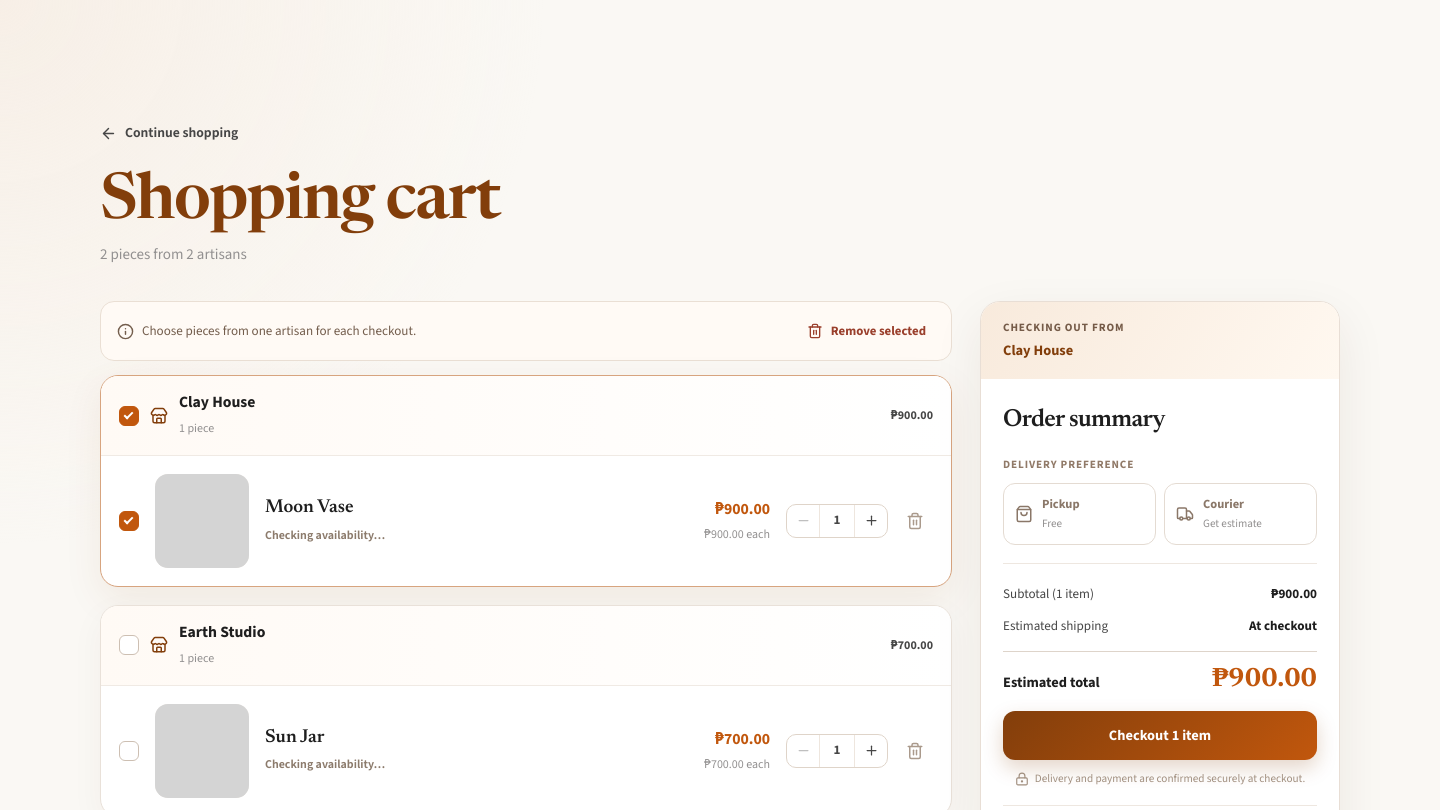
CartPage guest shop flow › switches selection exclusively between artisan shops
Expected: the link "Moon Vase" is shown, [265,498,354,517]
Expected: the checkbox named "Select Moon Vase" is checked, [119,511,139,531]
Step 1. Click the checkbox named "Select Sun Jar" → coordinates (129, 751), box [119,741,139,761]
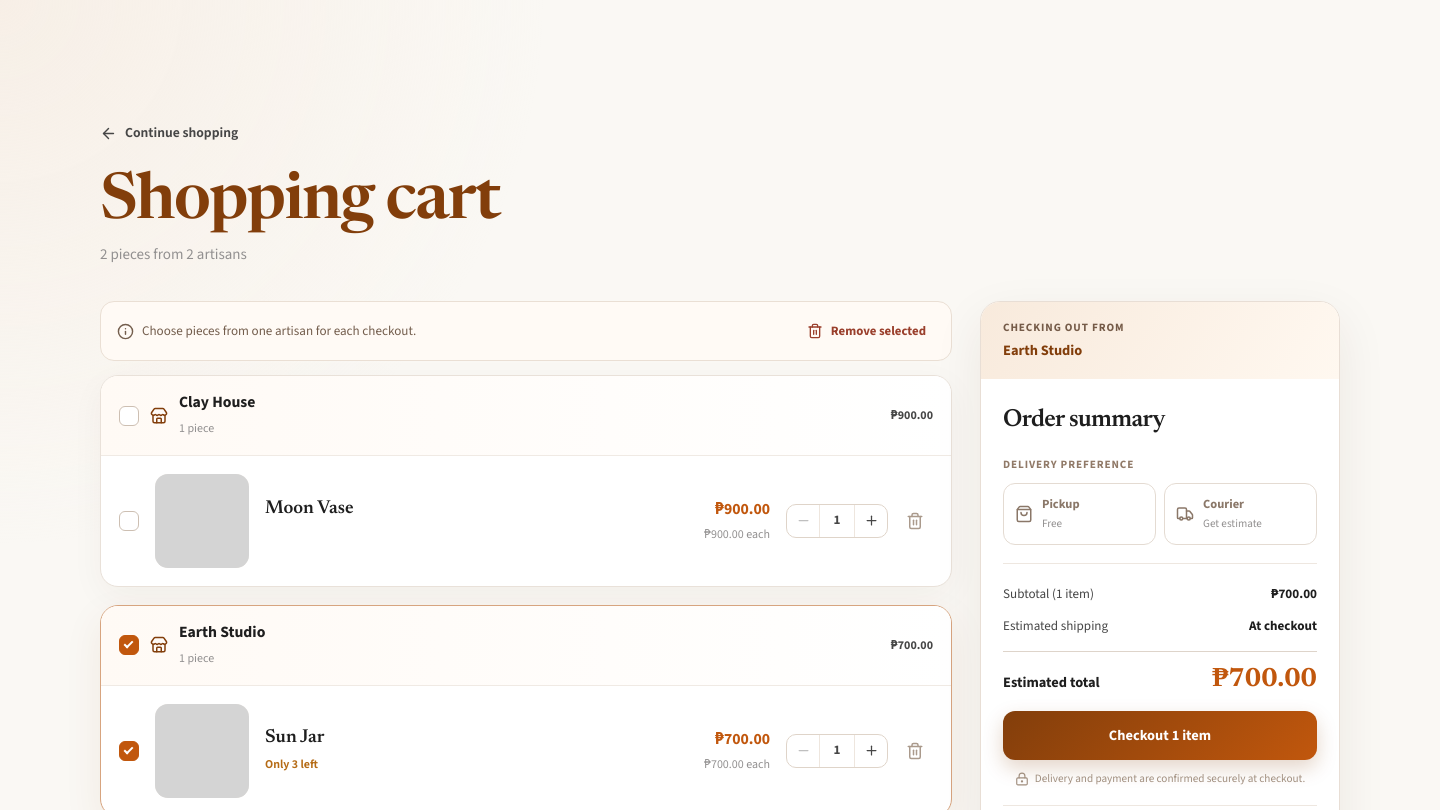
Result: the checkbox named "Select Sun Jar" is checked at [119,741,139,761]
Result: the checkbox named "Select Moon Vase" is not checked at [119,511,139,531]
